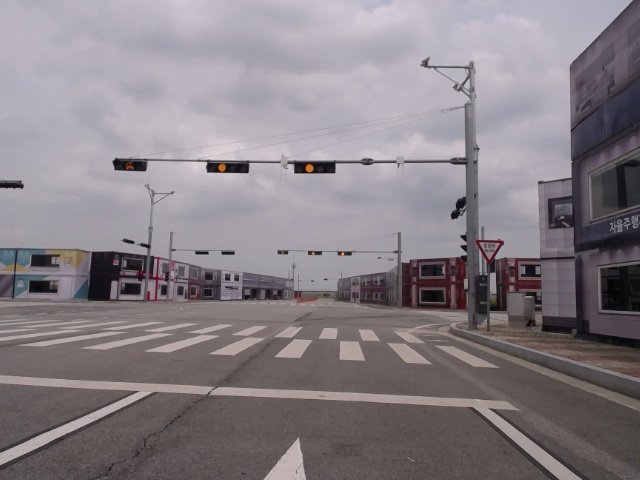orange_4: (206, 160, 251, 176), (293, 159, 338, 175), (336, 250, 354, 258), (305, 249, 324, 256)
